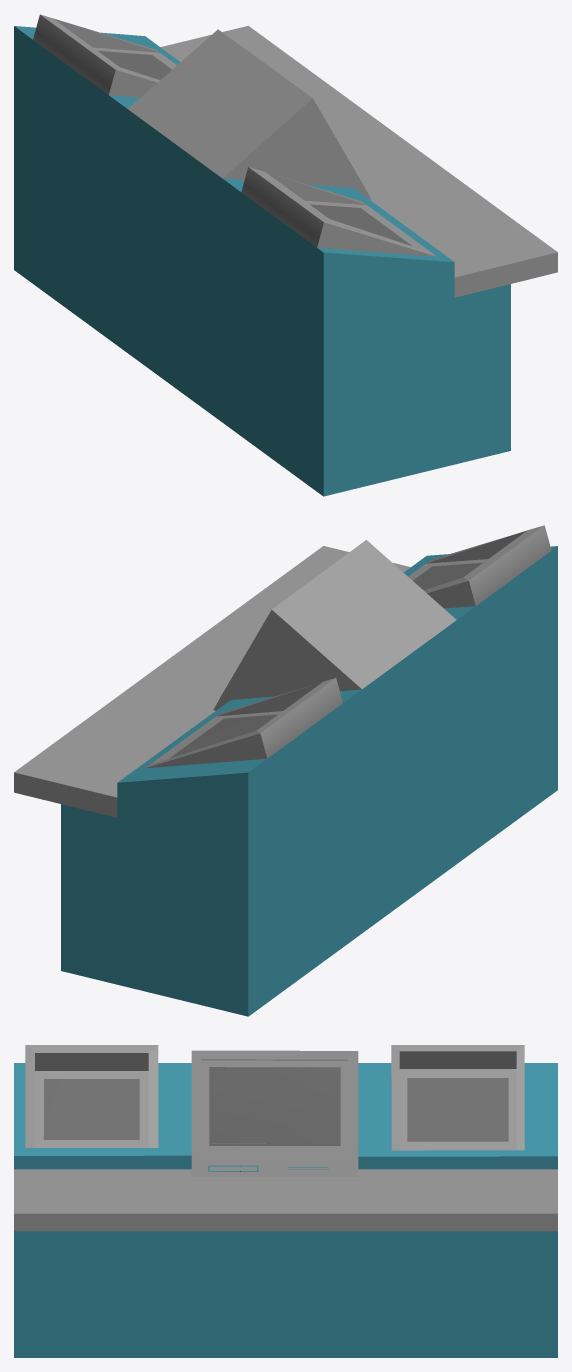
File: D_ComputerConsole.fbx
3 renders of one model, top to bottom at view 1: azimuth 30°, elevation 25°; view 2: azimuth 150°, elevation 25°; view 3: azimuth 270°, elevation 25°, orthographic. The views are drawn at different scales.
Visible parts, largest first — view 1: D_ComputerConsole; view 2: D_ComputerConsole; view 3: D_ComputerConsole.
Part boxes in pixels (box(x1,y1,x2,y2)): D_ComputerConsole: box(14, 14, 557, 496); D_ComputerConsole: box(14, 525, 557, 1016); D_ComputerConsole: box(14, 1045, 557, 1357).
Bounding box in the file's own units: 4.54 × 5.59 × 10.38.
